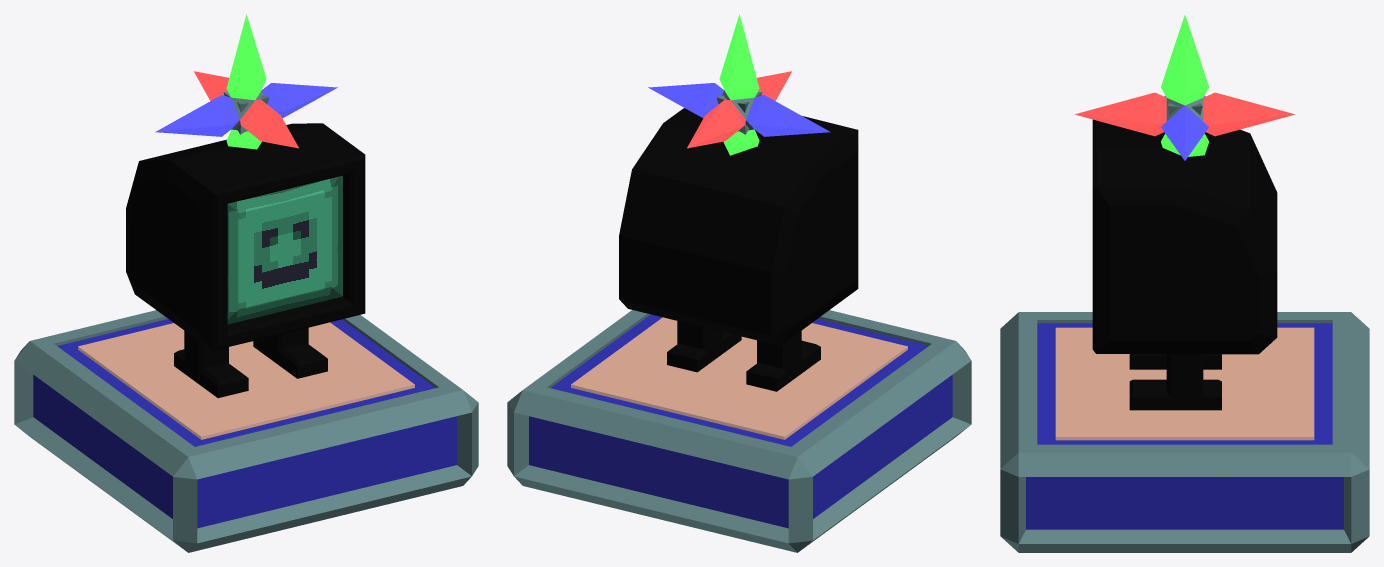
Rendered from SciFi.fbx.
3 renders of one model, left to right at view 1: azimuth 30°, elevation 25°; view 2: azimuth 150°, elevation 25°; view 3: azimuth 270°, elevation 25°, orthographic. The views are drawn at different scales.
Parts seen in each view (by area): view 1: Tile_sci-fi, Player_sci-fi, Coin_sci-fi; view 2: Tile_sci-fi, Player_sci-fi, Coin_sci-fi; view 3: Tile_sci-fi, Player_sci-fi, Coin_sci-fi.
Part boxes in pixels (box(x1,y1,x2,y2)): Tile_sci-fi: box(14, 310, 478, 552); Player_sci-fi: box(126, 123, 365, 398); Coin_sci-fi: box(155, 14, 337, 149); Tile_sci-fi: box(507, 310, 971, 552); Player_sci-fi: box(619, 108, 858, 391); Coin_sci-fi: box(648, 14, 830, 155); Tile_sci-fi: box(1000, 312, 1369, 552); Player_sci-fi: box(1092, 119, 1277, 410); Coin_sci-fi: box(1074, 15, 1295, 160).
Bounding box in the file's own units: 100 × 140 × 100.
8 materials, 1 textured.
